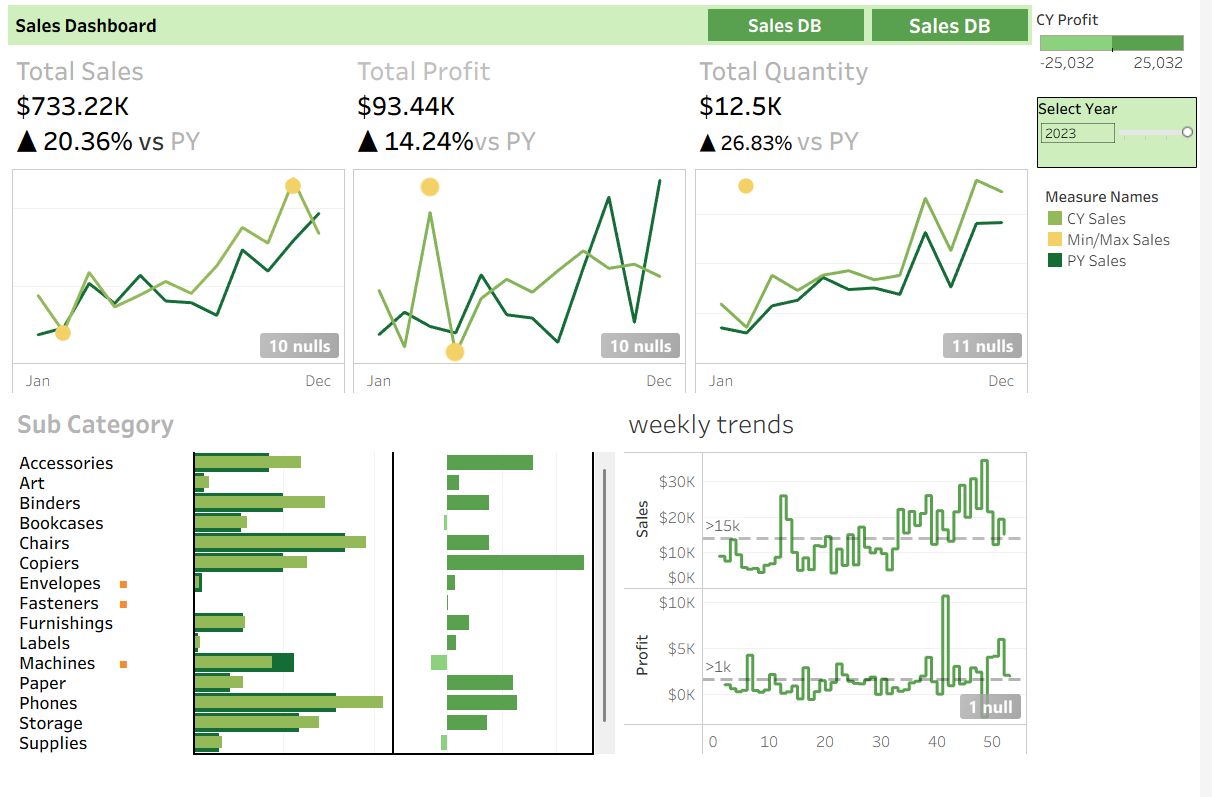

This screenshot's page, from the dashboard's own definition file:
{"tool":"tableau","page":{"name":"Sales Dashboard","canvas":[1000,1000],"units":"permille","ordinal":0},"visuals":[{"type":"text","box":[6.7,10,580,50]},{"type":"dashboard-object","box":[586.7,10,136.7,50]},{"type":"dashboard-object","box":[723.3,10,136.7,50]},{"type":"legend","title":"sub category","param":"[federated.1nupdem17kwkjb117md2x1k13pi6].[sum:Calculation_1476952003293184:qk]","box":[860,10,133.3,91.2]},{"type":"worksheet","title":"Total Sales","mark":"Automatic","rows":["Calculation_1116311625093126"],"cols":["Order Date"],"box":[6.7,60,284.4,441.2]},{"type":"worksheet","title":"Total Profit","mark":"Automatic","rows":["Calculation_1476952150298627"],"cols":["Order Date"],"box":[291.1,60,284.4,441.2]},{"type":"worksheet","title":"Total qunatity","mark":"Line","rows":["Calculation_1476952159432718"],"cols":["Order Date"],"box":[575.6,60,284.4,441.2]},{"type":"parameter","param":"[Parameters].[Order Date(Year) Parameter]","box":[864.2,124.7,133.3,88.5]},{"type":"legend","title":"Total Sales","param":"[federated.1nupdem17kwkjb117md2x1k13pi6].[:Measure Names]","box":[870.8,235.7,116.7,106]},{"type":"worksheet","title":"sub category","mark":"Bar","rows":["Sub-Category","Calculation_1476952168656913"],"cols":["Calculation_1116311591768065","Calculation_1116311591178240","Calculation_1476952003293184"],"box":[6.7,501.2,510.4,451.2]},{"type":"worksheet","title":"weekly trends","mark":"Automatic","rows":["Calculation_1116311591178240","Calculation_1476952009101313"],"cols":["Order Date"],"box":[517.1,501.2,342.9,451.2]}]}

Visuals, with their boxes on the dashboard's canvas, which has no fixed pixel size, in thousandths of its width and height (x1, y1, x2, y2). These are canvas units, not pixel positions in the 1212x797 screenshot, which may show the page scaled, cropped or inside an application window:
text: bbox=(7, 10, 587, 60)
dashboard-object: bbox=(587, 10, 723, 60)
dashboard-object: bbox=(723, 10, 860, 60)
"sub category" legend: bbox=(860, 10, 993, 101)
"Total Sales" worksheet: bbox=(7, 60, 291, 501)
"Total Profit" worksheet: bbox=(291, 60, 576, 501)
"Total qunatity" worksheet (Line marks): bbox=(576, 60, 860, 501)
parameter: bbox=(864, 125, 998, 213)
"Total Sales" legend: bbox=(871, 236, 988, 342)
"sub category" worksheet (Bar marks): bbox=(7, 501, 517, 952)
"weekly trends" worksheet: bbox=(517, 501, 860, 952)
